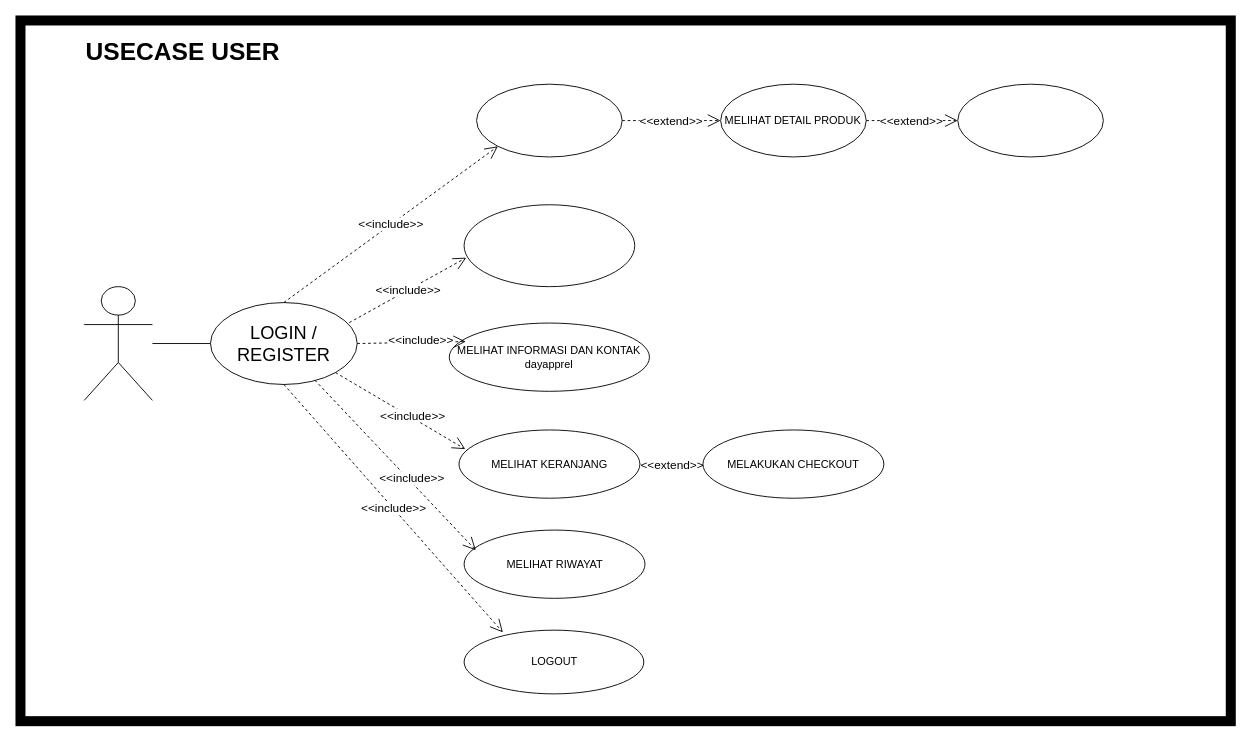
This 1251x742 diagram has some shape labels left out. The shapes that lost their labels are listed below. From the top down, each one's centre as x and y in pixels, then its label:
At pixel 549 120: "MELIHAT BERANDA".
At pixel 1030 120: "MENAMBAHKAN KE KERANJANG".
At pixel 549 245: "MELIHAT PROFIL".
At pixel 117 343: "USER".
